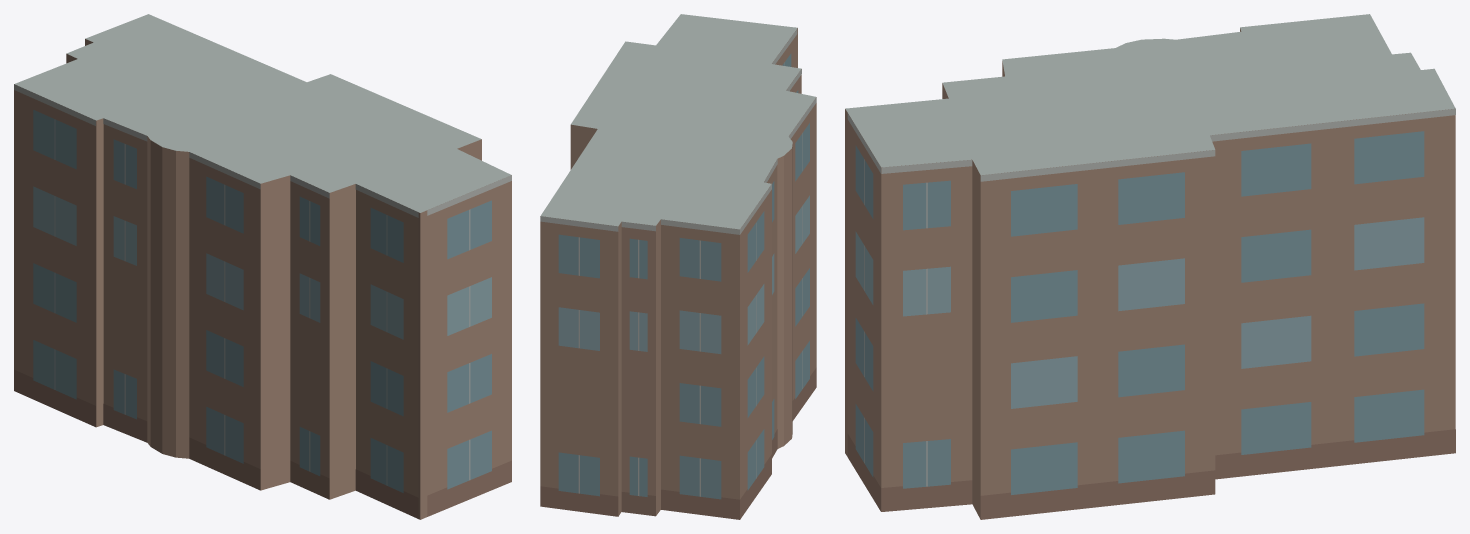
Rendered from survey-upis-32993727.glb.
3 renders of one model, left to right at view 1: azimuth 30°, elevation 25°; view 2: azimuth 150°, elevation 25°; view 3: azimuth 270°, elevation 25°, orthographic. The views are drawn at different scales.
Visible parts, largest first — view 1: survey-upis-32993727.tmp; view 2: survey-upis-32993727.tmp; view 3: survey-upis-32993727.tmp.
Boxes of the visible parts, x1=… form: survey-upis-32993727.tmp: x1=14, y1=14, x2=511, y2=519; survey-upis-32993727.tmp: x1=540, y1=14, x2=816, y2=519; survey-upis-32993727.tmp: x1=845, y1=14, x2=1455, y2=519.
Size of the model in its own units: 12.99 by 12.93 by 20.78.
